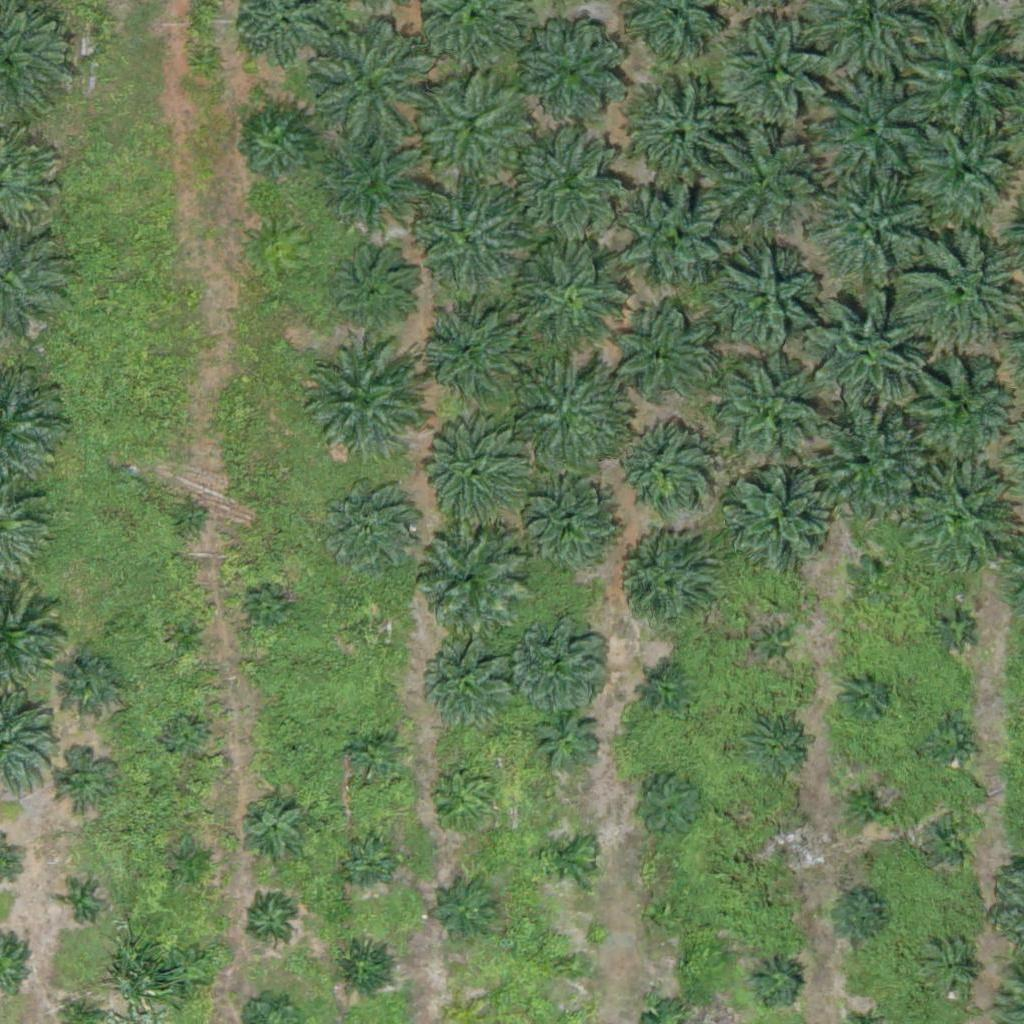Kelapa_Sawit: (305, 18, 430, 144), (298, 338, 423, 464), (708, 352, 833, 478), (811, 67, 936, 193), (809, 161, 934, 287), (804, 296, 929, 422), (804, 411, 929, 537), (891, 339, 1016, 465), (510, 353, 635, 478), (518, 11, 631, 124), (626, 81, 739, 194), (409, 521, 522, 634), (513, 126, 626, 239), (513, 239, 626, 352), (611, 177, 724, 290), (725, 467, 838, 580), (705, 128, 817, 242), (720, 15, 832, 128), (418, 77, 530, 190), (319, 128, 431, 241), (414, 184, 526, 297), (416, 417, 528, 530), (707, 241, 819, 354), (904, 467, 1016, 580), (319, 477, 419, 578), (422, 305, 522, 406), (520, 477, 620, 578), (610, 305, 710, 406), (612, 422, 712, 523), (610, 535, 710, 636), (515, 612, 615, 713), (331, 242, 418, 330), (428, 645, 515, 733), (240, 107, 315, 183), (629, 768, 704, 843), (50, 750, 113, 813), (60, 652, 123, 715), (434, 880, 497, 943), (333, 935, 396, 998), (343, 725, 406, 788), (827, 885, 890, 948), (240, 794, 302, 857), (745, 716, 807, 779), (536, 707, 598, 770), (434, 770, 496, 833), (926, 942, 976, 993), (542, 830, 592, 881), (749, 955, 799, 1006), (842, 777, 892, 828), (165, 949, 215, 1000), (247, 896, 297, 946), (341, 837, 391, 887), (840, 668, 890, 718), (926, 815, 976, 865), (929, 605, 979, 655), (925, 716, 975, 766), (745, 620, 795, 670), (848, 551, 898, 601), (649, 898, 687, 936), (165, 716, 203, 754), (169, 618, 207, 656), (170, 499, 208, 537), (172, 842, 210, 880), (647, 674, 685, 711), (355, 612, 393, 649), (251, 592, 288, 630), (63, 887, 100, 924), (772, 831, 797, 856), (560, 951, 585, 976), (282, 742, 307, 767)
